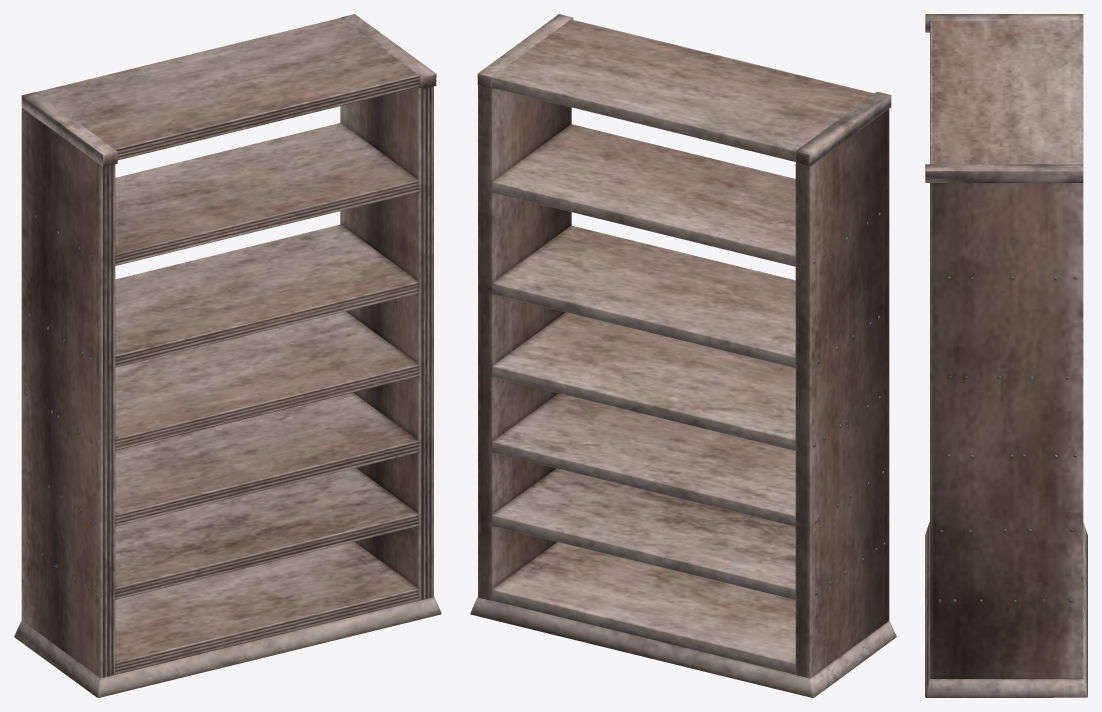
Rendered from shelf.glb.
The picture shows the model from 3 angles, left to right: view 1: azimuth 30°, elevation 25°; view 2: azimuth 150°, elevation 25°; view 3: azimuth 270°, elevation 25°; orthographic projection. The views are drawn at different scales.
Parts seen in each view (by area): view 1: wooden_bookshelf_worn; view 2: wooden_bookshelf_worn; view 3: wooden_bookshelf_worn.
Part boxes in pixels (box(x1,y1,x2,y2)): wooden_bookshelf_worn: box(14, 14, 441, 697); wooden_bookshelf_worn: box(470, 14, 896, 697); wooden_bookshelf_worn: box(925, 14, 1087, 697).
Bounding box in the file's own units: 1.37 × 2.06 × 0.5813.
1 material, 1 textured.
